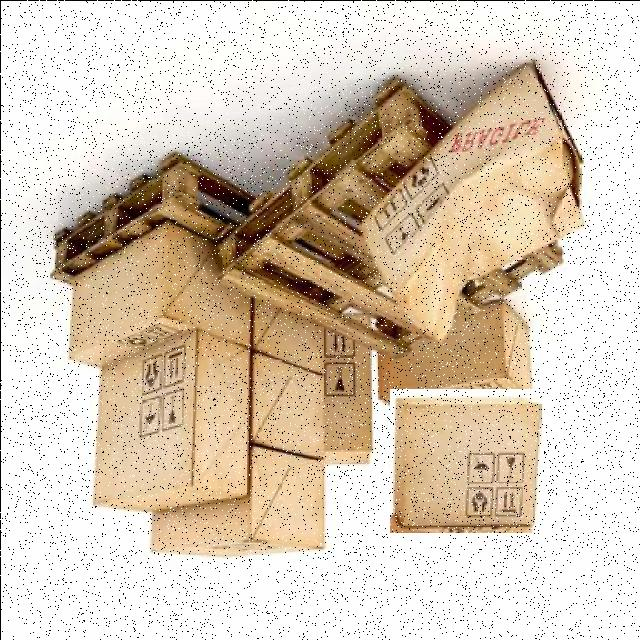defect: (358, 57, 582, 340)
normal: (83, 331, 251, 517), (389, 388, 545, 532)
